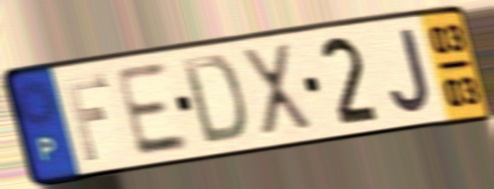2: (320, 34, 381, 127)
D: (178, 52, 250, 148)
E: (111, 59, 193, 160)
F: (61, 71, 112, 164)
J: (388, 25, 434, 116)
X: (238, 40, 318, 139)
